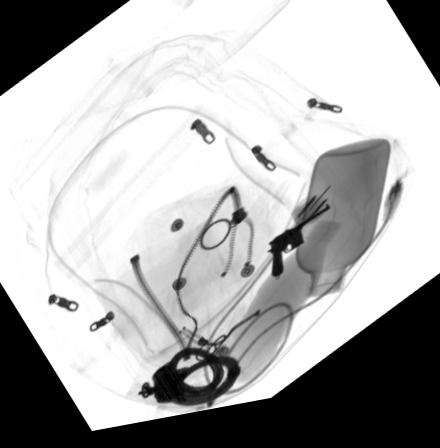Gun: (269, 213, 332, 286)
HandCuffs: (136, 351, 240, 413)
